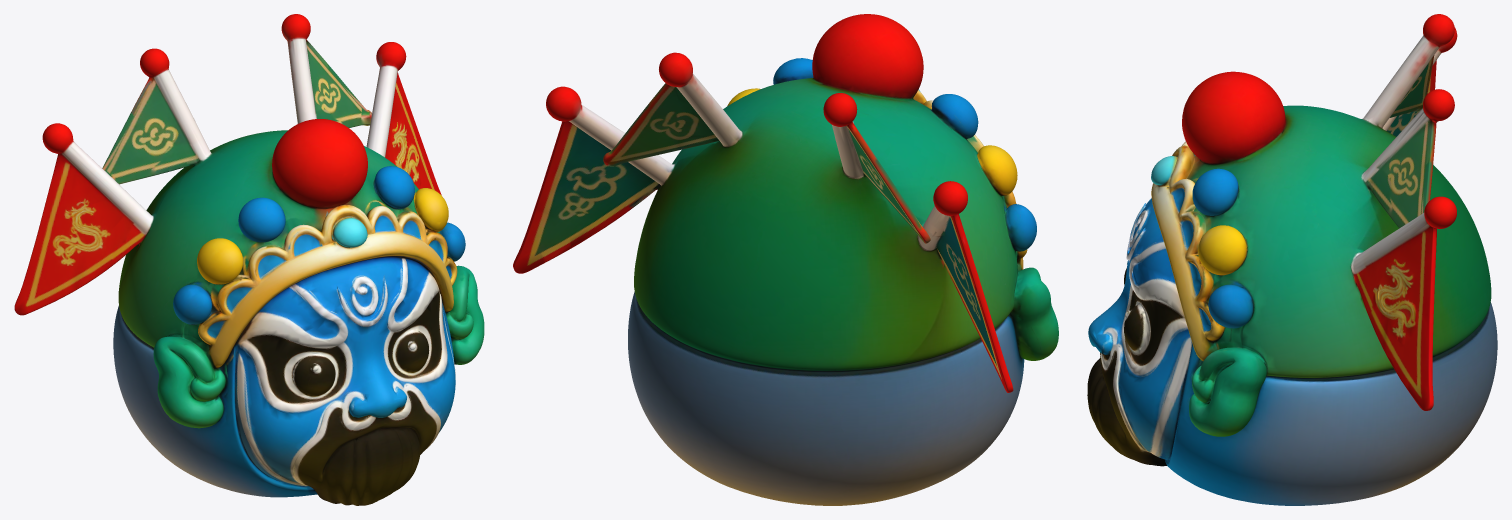
File: 蓝色变脸.glb
The picture shows the model from 3 angles, left to right: view 1: azimuth 30°, elevation 25°; view 2: azimuth 150°, elevation 25°; view 3: azimuth 270°, elevation 25°; orthographic projection. The views are drawn at different scales.
Visible parts, largest first — view 1: node_0; view 2: node_0; view 3: node_0.
Part boxes in pixels (<box>): node_0: <box>14,14,484,505</box>; node_0: <box>513,14,1058,505</box>; node_0: <box>1087,14,1497,505</box>.
Bounding box in the file's own units: 1.03 × 0.8754 × 0.7829.
1 material, 1 textured.
